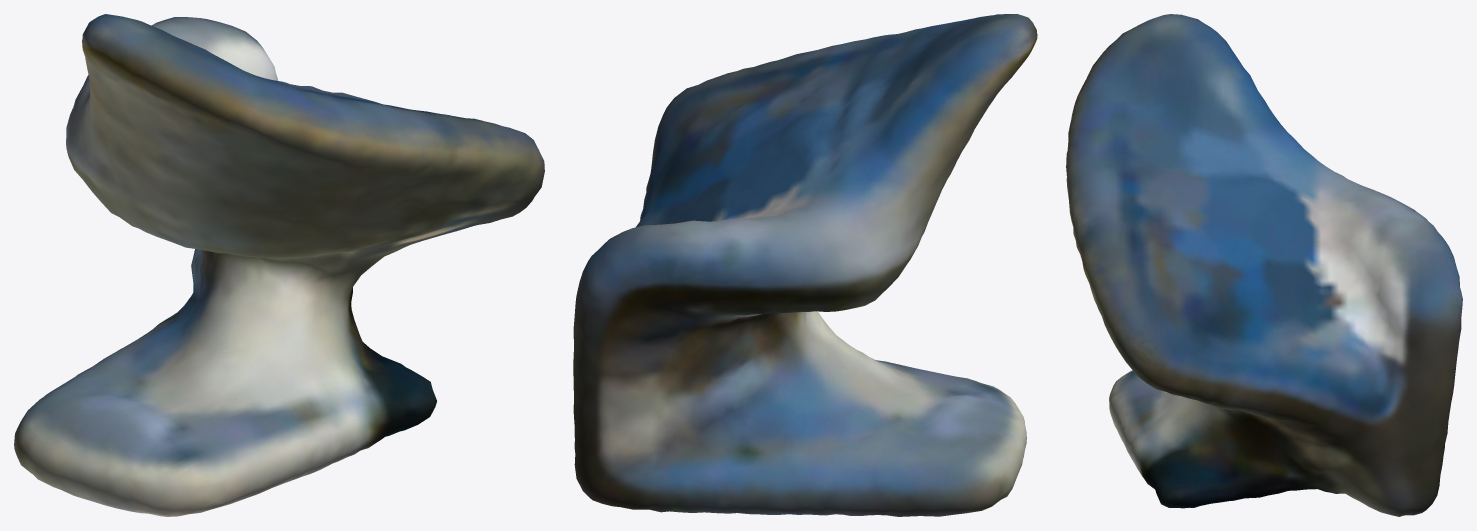
Rendered from firstTest.fbx.
3 views of the same model, side by side, from view 1: azimuth 30°, elevation 25°; view 2: azimuth 150°, elevation 25°; view 3: azimuth 270°, elevation 25° (orthographic). The views are drawn at different scales.
Visible parts, largest first — view 1: Mesh1; view 2: Mesh1; view 3: Mesh1.
Boxes of the visible parts, x1=… form: Mesh1: x1=14, y1=14, x2=544, y2=516; Mesh1: x1=573, y1=14, x2=1037, y2=516; Mesh1: x1=1066, y1=14, x2=1462, y2=516.
Size of the model in its own units: 111 by 120 by 107.
Materials: 1 (1 with a texture image).
